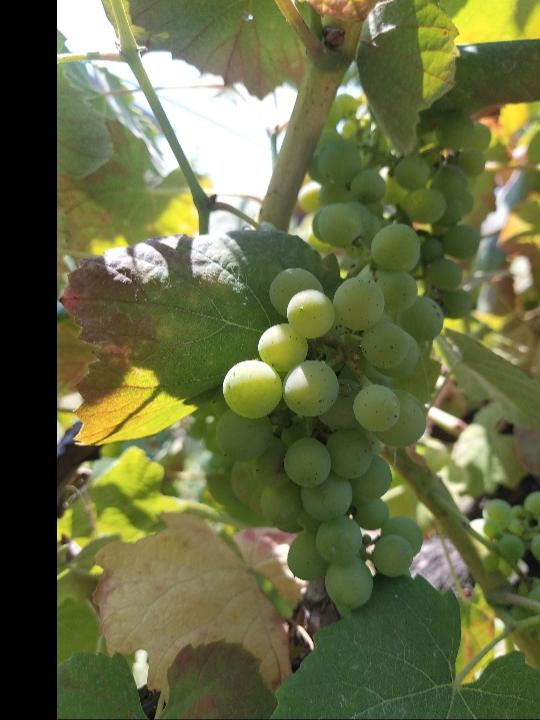grape: (219, 220, 447, 614)
